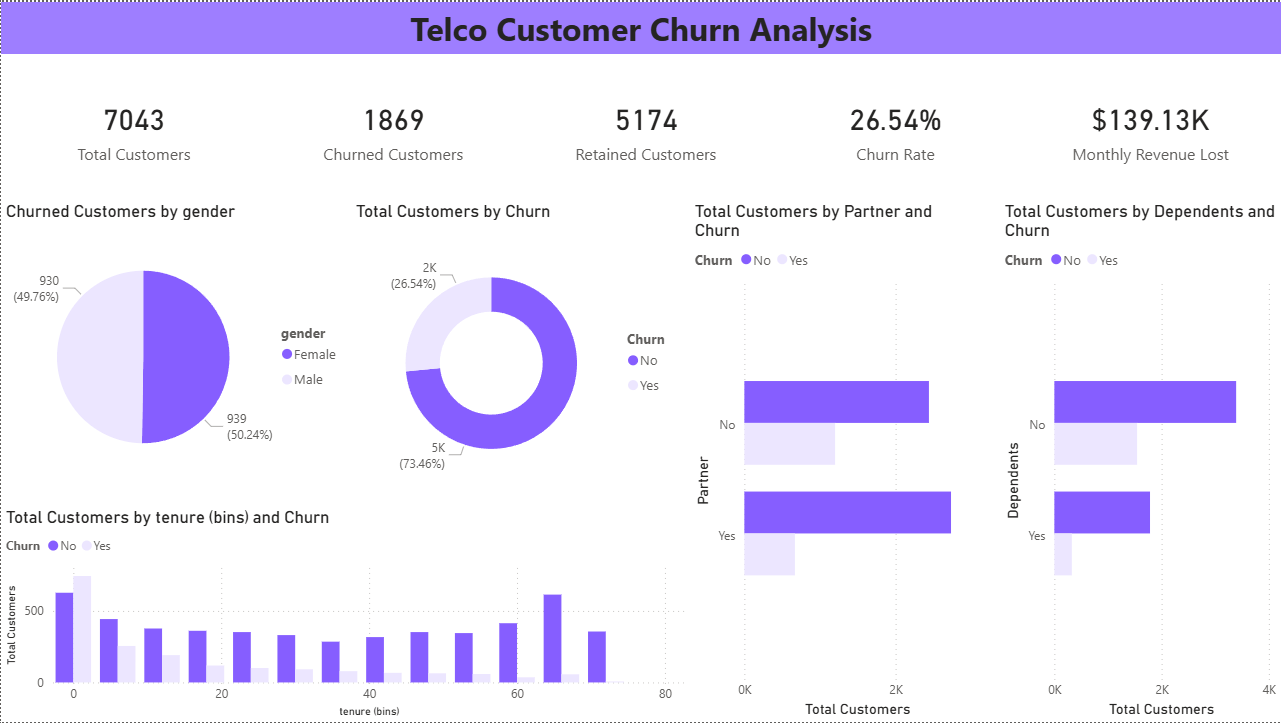

The dashboard page shown, as its layout file describes it:
{"tool":"powerbi","page":{"name":"Overview & Demographics","canvas":[1280,720],"ordinal":0},"visuals":[{"type":"textbox","box":[0,0,1280.3,52.1],"z":0},{"type":"card","fields":{"Values":["Telco_Churn.Total Customers"]},"box":[0,52.1,266.2,149.6],"z":1},{"type":"card","fields":{"Values":["Telco_Churn.Churned Customers"]},"box":[266.2,52.1,252.5,149.6],"z":2},{"type":"card","fields":{"Values":["Telco_Churn.Retained Customers"]},"box":[518.7,52.1,252.5,149.6],"z":3},{"type":"card","fields":{"Values":["Telco_Churn.Churn Rate"]},"box":[771.2,52.1,247,149.6],"z":4},{"type":"card","fields":{"Values":["Telco_Churn.Monthly Revenue Lost"]},"box":[1018.2,52.1,262.1,149.6],"z":5},{"type":"donutChart","fields":{"Category":["Telco_Churn.Churn"],"Y":["Telco_Churn.Total Customers"]},"box":[349.9,199,338.9,306],"z":6},{"type":"pieChart","fields":{"Category":["Telco_Churn.gender"],"Y":["Telco_Churn.Churned Customers"]},"box":[0,199,349.9,293.7],"z":7},{"type":"clusteredBarChart","fields":{"Category":["Telco_Churn.Partner"],"Y":["Telco_Churn.Total Customers"],"Series":["Telco_Churn.Churn"]},"box":[688.9,199,293.7,521.4],"z":8},{"type":"clusteredBarChart","fields":{"Category":["Telco_Churn.Dependents"],"Y":["Telco_Churn.Total Customers"],"Series":["Telco_Churn.Churn"]},"box":[999,199,281.3,521.4],"z":9},{"type":"clusteredColumnChart","fields":{"Category":["Telco_Churn.tenure (bins)"],"Y":["Telco_Churn.Total Customers"],"Series":["Telco_Churn.Churn"]},"box":[0,505,688.9,215.4],"z":10}]}

Visuals, with their boxes in screenshot pixels (x1, y1, x2, y2), scaled from the page's 1280x720 canvas onto the 1281x723 screenshot:
textbox: box(0, 0, 1280, 52)
card - Telco_Churn.Total Customers: box(0, 52, 266, 203)
card - Telco_Churn.Churned Customers: box(266, 52, 519, 203)
card - Telco_Churn.Retained Customers: box(519, 52, 772, 203)
card - Telco_Churn.Churn Rate: box(772, 52, 1019, 203)
card - Telco_Churn.Monthly Revenue Lost: box(1019, 52, 1280, 203)
donutChart - Telco_Churn.Churn x Telco_Churn.Total Customers: box(350, 200, 689, 507)
pieChart - Telco_Churn.gender x Telco_Churn.Churned Customers: box(0, 200, 350, 495)
clusteredBarChart - Telco_Churn.Partner x Telco_Churn.Total Customers: box(689, 200, 983, 722)
clusteredBarChart - Telco_Churn.Dependents x Telco_Churn.Total Customers: box(1000, 200, 1280, 722)
clusteredColumnChart - Telco_Churn.tenure (bins) x Telco_Churn.Total Customers: box(0, 507, 689, 722)
